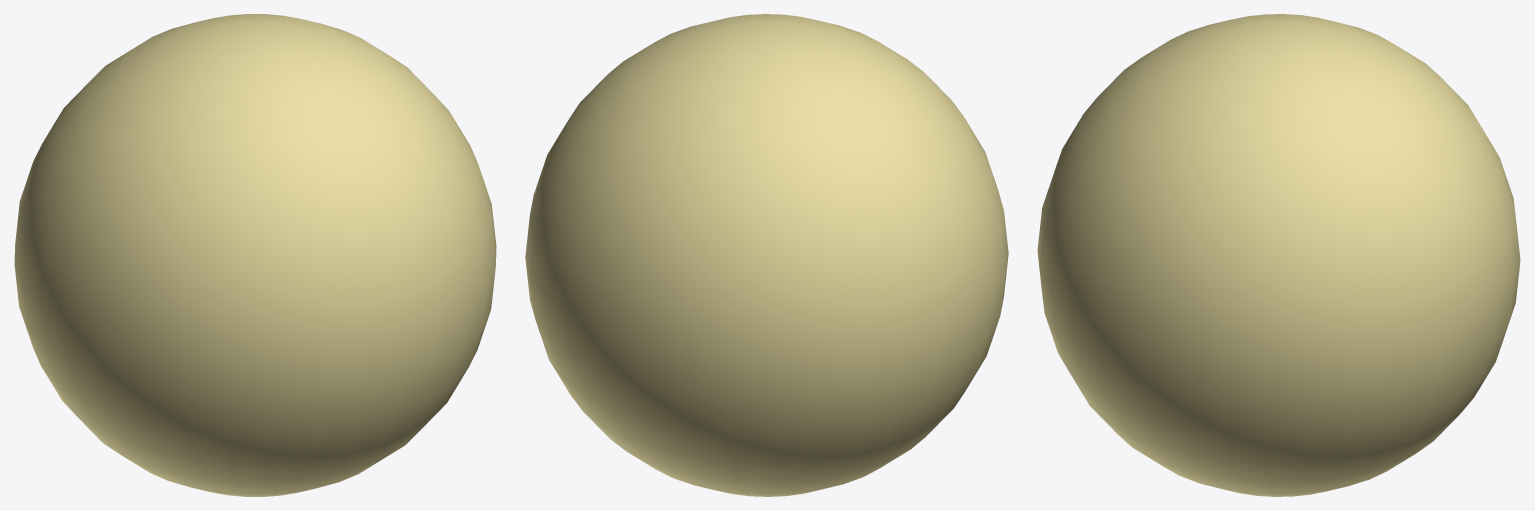
File: bola_creme.glb
The picture shows the model from 3 angles, left to right: view 1: azimuth 30°, elevation 25°; view 2: azimuth 150°, elevation 25°; view 3: azimuth 270°, elevation 25°; orthographic projection.
Visible parts, largest first — view 1: Cube.002; view 2: Cube.002; view 3: Cube.002.
Part boxes in pixels (<box>): Cube.002: <box>14,14,496,496</box>; Cube.002: <box>525,14,1008,496</box>; Cube.002: <box>1037,14,1520,496</box>.
Size of the model in its own units: 0.1896 by 0.1898 by 0.1896.
